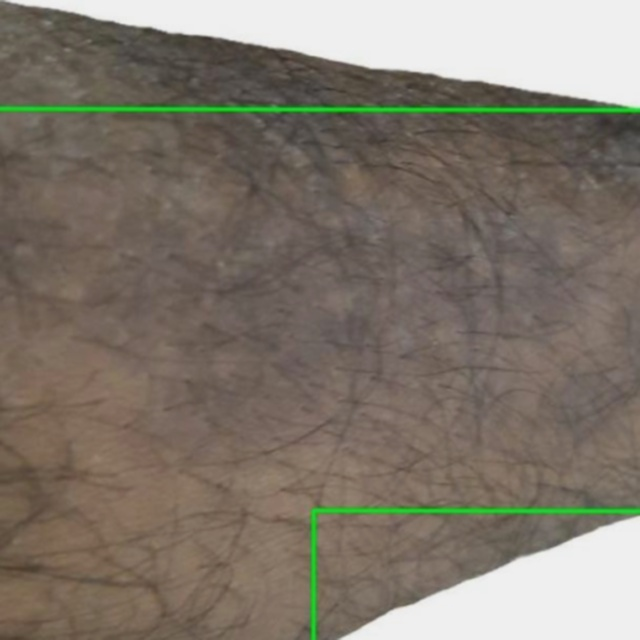Contact Dermatitis: (0, 0, 639, 111), (313, 510, 639, 639)
